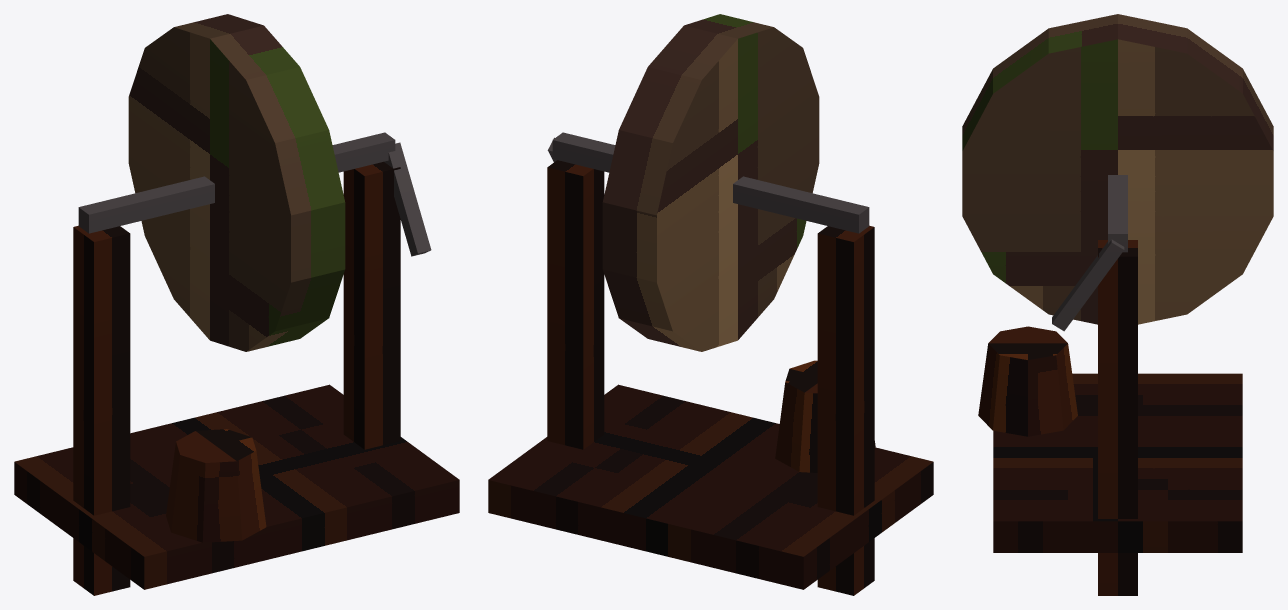
Rendered from grindstone.glb.
The picture shows the model from 3 angles, left to right: view 1: azimuth 30°, elevation 25°; view 2: azimuth 150°, elevation 25°; view 3: azimuth 270°, elevation 25°; orthographic projection. The views are drawn at different scales.
Visible parts, largest first — view 1: grindstone; view 2: grindstone; view 3: grindstone.
Part boxes in pixels (bbox=[...]): grindstone: bbox=[14, 14, 459, 595]; grindstone: bbox=[488, 14, 933, 595]; grindstone: bbox=[962, 14, 1273, 595].
Bounding box in the file's own units: 0.705 × 1.1 × 0.624.
Materials: 3 (2 with a texture image).
